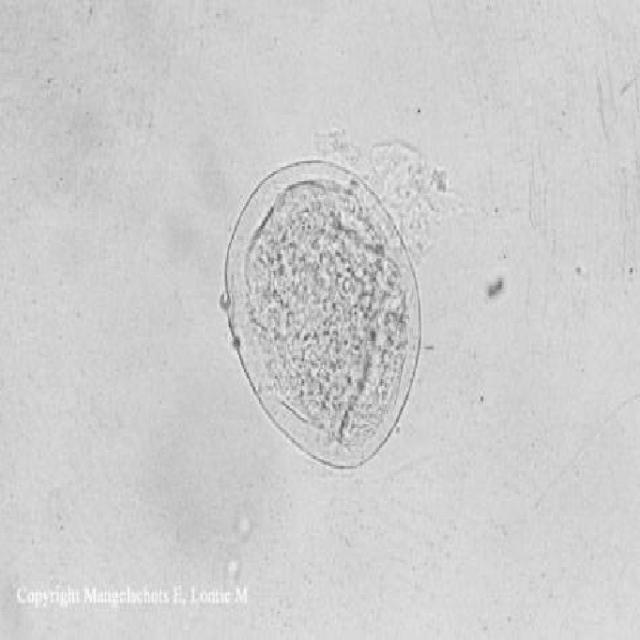Schistosoma: (221, 152, 426, 482)
